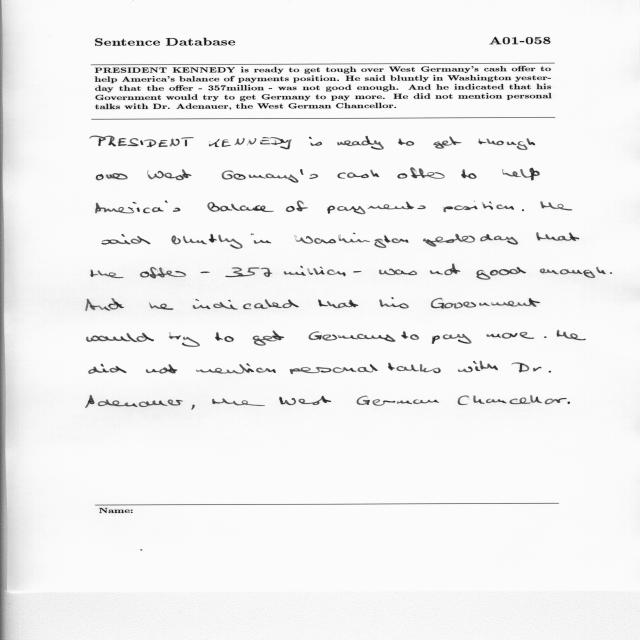word: (296, 233, 409, 248), (222, 169, 318, 183), (225, 266, 346, 277), (85, 395, 183, 408), (423, 234, 518, 247), (431, 298, 540, 309), (327, 202, 426, 214), (90, 136, 194, 147), (96, 201, 181, 214), (458, 395, 567, 405), (172, 234, 243, 249), (193, 299, 299, 309), (209, 137, 292, 149), (309, 331, 396, 342), (356, 395, 439, 406), (196, 363, 276, 374), (290, 364, 378, 374), (443, 201, 514, 212), (540, 267, 606, 278), (478, 138, 535, 150), (207, 202, 274, 212), (337, 136, 384, 150), (476, 267, 526, 280), (87, 333, 154, 342), (397, 167, 445, 179), (102, 234, 151, 245), (388, 363, 441, 373), (140, 267, 186, 278), (253, 330, 284, 346), (147, 169, 192, 180), (502, 168, 540, 181), (86, 298, 124, 311), (280, 396, 332, 405), (458, 361, 498, 372), (169, 333, 200, 347), (512, 362, 551, 373), (212, 398, 265, 406), (432, 334, 472, 344), (537, 232, 580, 241), (89, 364, 127, 374), (338, 170, 380, 179), (434, 136, 462, 149), (318, 300, 358, 309), (430, 264, 460, 275), (379, 298, 409, 309), (487, 332, 534, 339), (540, 201, 572, 211), (146, 364, 178, 374), (91, 270, 124, 279), (557, 330, 586, 340), (286, 201, 308, 212), (379, 269, 417, 275), (96, 173, 128, 180), (251, 233, 271, 244), (149, 302, 173, 310), (215, 332, 234, 342), (401, 331, 419, 340), (461, 169, 477, 179), (398, 138, 414, 146), (309, 137, 322, 146), (200, 272, 210, 274), (191, 405, 195, 410), (353, 271, 362, 272), (568, 402, 571, 404), (522, 209, 524, 211), (610, 272, 612, 274), (544, 337, 547, 338)
